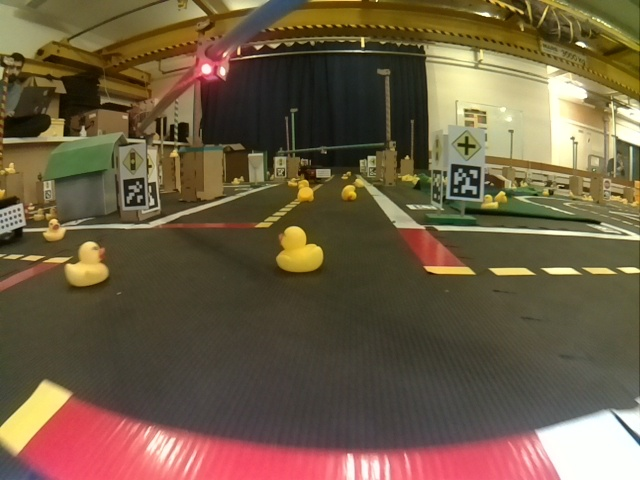Duckie: (276, 228, 323, 271), (66, 242, 108, 287), (43, 219, 62, 242), (298, 187, 314, 202), (341, 185, 356, 200)
Duckiebot: (0, 197, 27, 240)
Intersection sign: (449, 125, 482, 159)
QR code: (449, 165, 481, 198), (120, 177, 146, 208), (143, 181, 159, 212)
Signal sign: (119, 147, 144, 174)
Traffic light: (196, 45, 229, 81)
